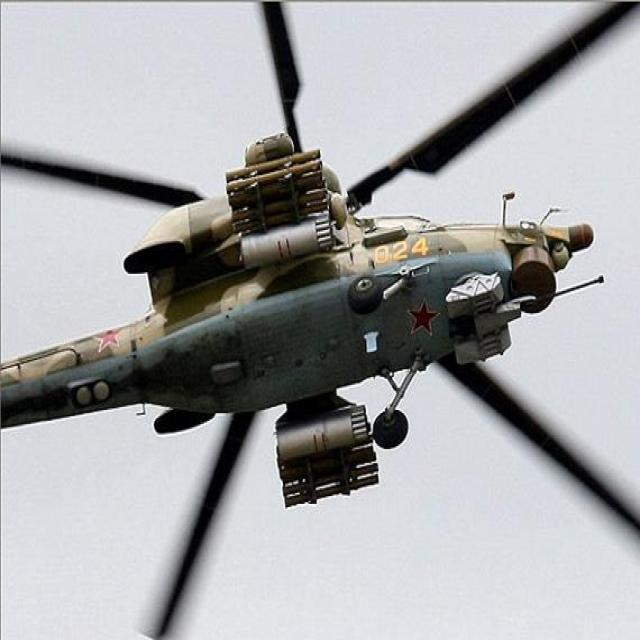MIL_HELO: (0, 0, 613, 546)
